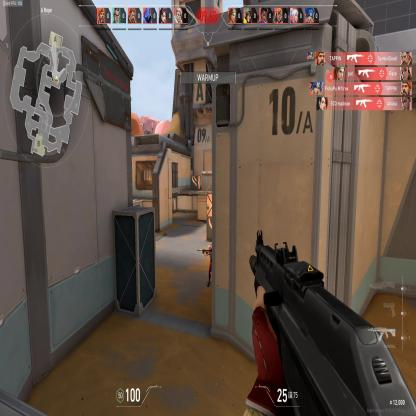enemy: (202, 243, 212, 287)
